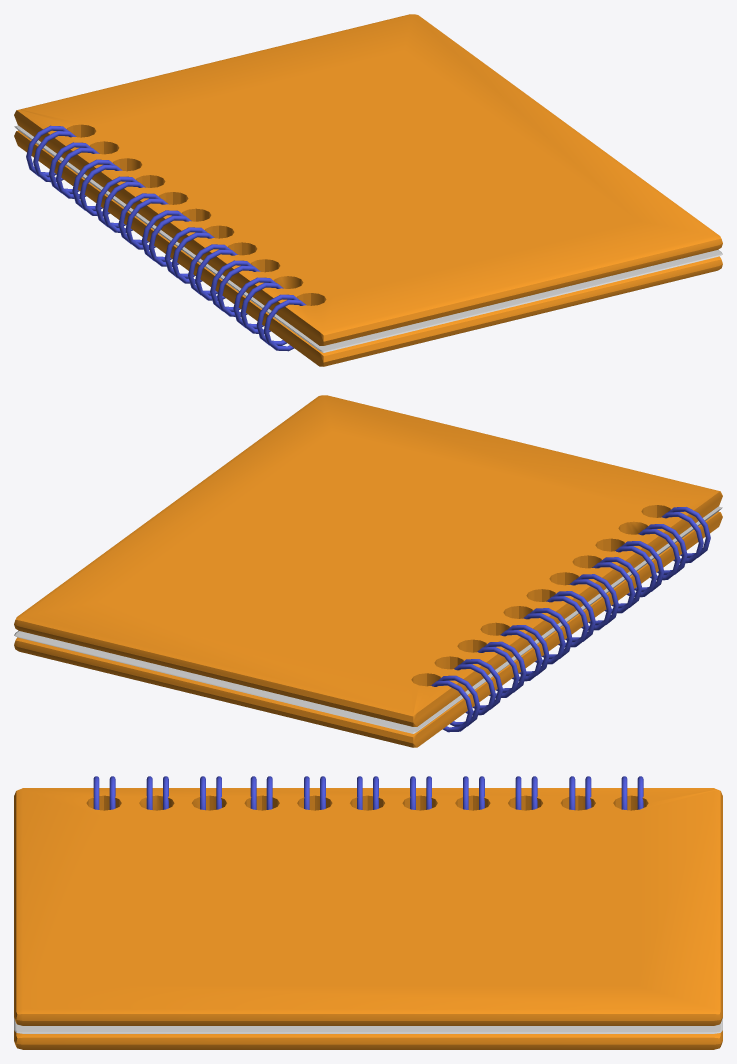
File: Note.fbx
The picture shows the model from 3 angles, top to bottom: view 1: azimuth 30°, elevation 25°; view 2: azimuth 150°, elevation 25°; view 3: azimuth 270°, elevation 25°; orthographic projection. The views are drawn at different scales.
Visible parts, largest first — view 1: body; view 2: body; view 3: body.
Part boxes in pixels (box(x1,y1,x2,y2)): body: box(14, 14, 722, 366); body: box(14, 395, 722, 747); body: box(14, 776, 722, 1049).
Bounding box in the file's own units: 15.88 × 1.83 × 20.
